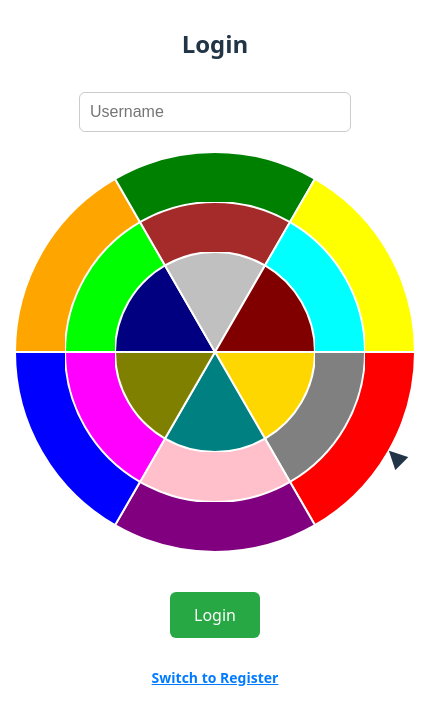
Test: WheelPage Component › toggles to login mode
Click the button "Switch to Register".
click(215, 677)  # box [132,658,298,697]
(page scrolled)
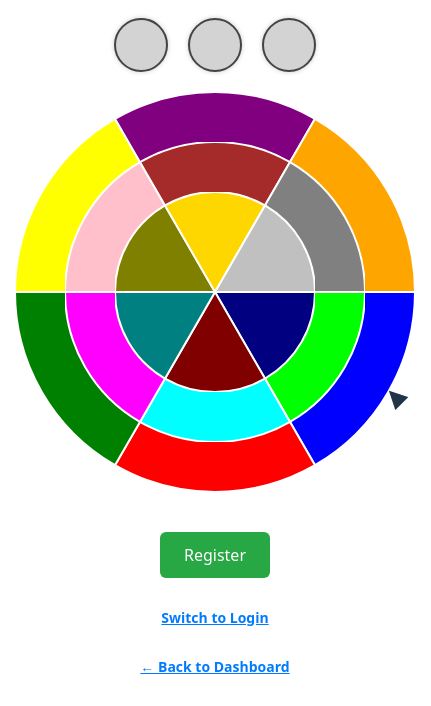
Result: the button "Switch to Login" is shown at [141,598,289,637]
